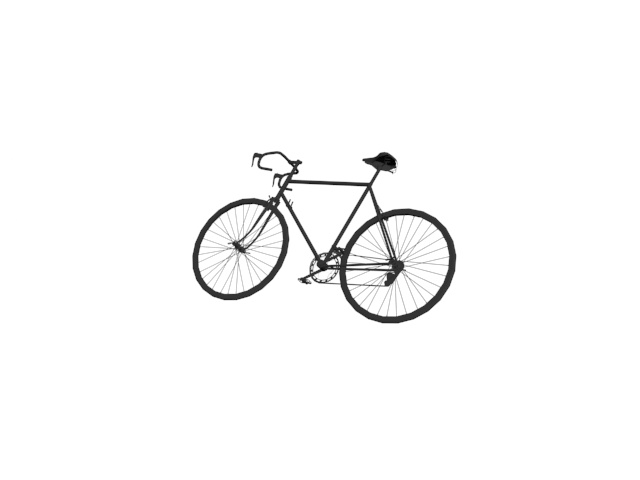bike: (193, 145, 464, 328)
